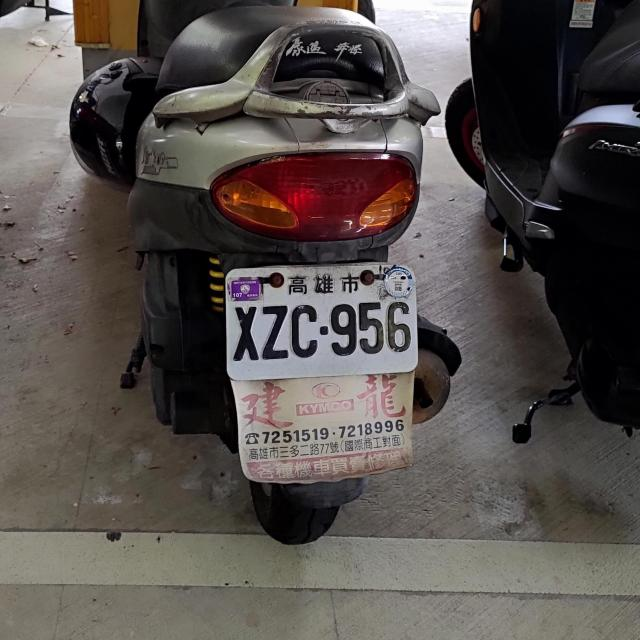W: (223, 258, 418, 377)
